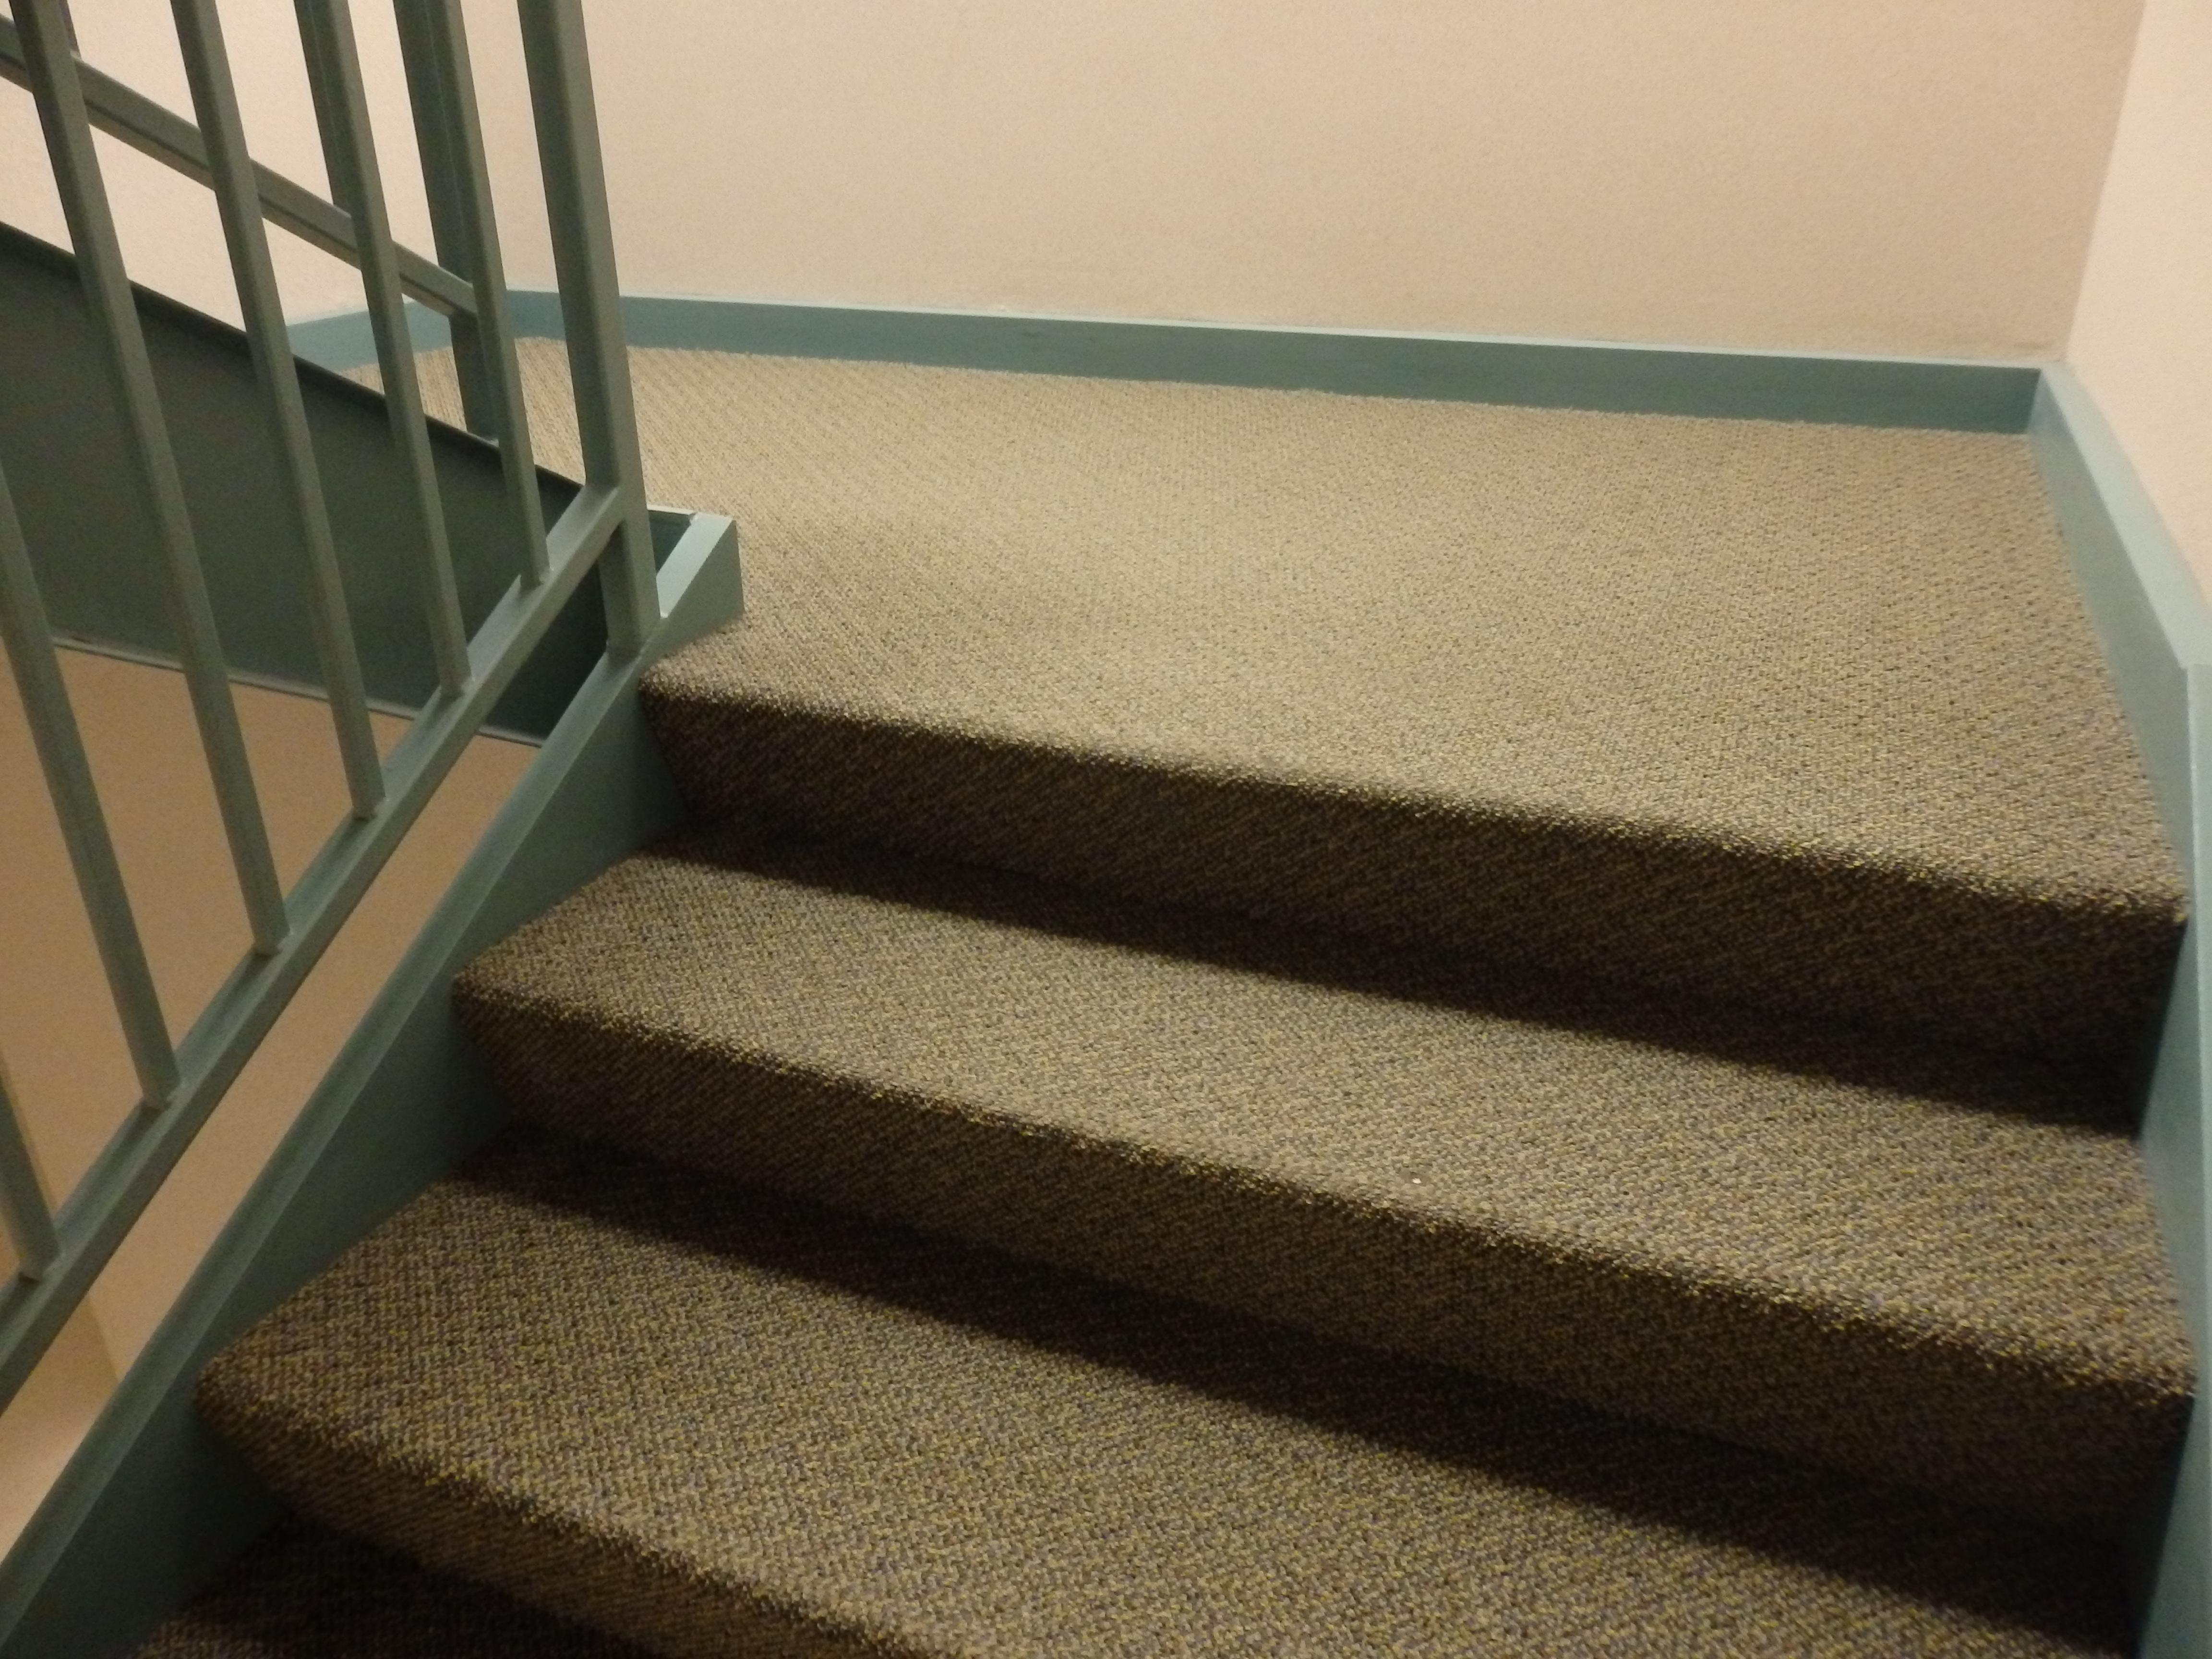stairs_up: (425, 633, 2132, 1659)
